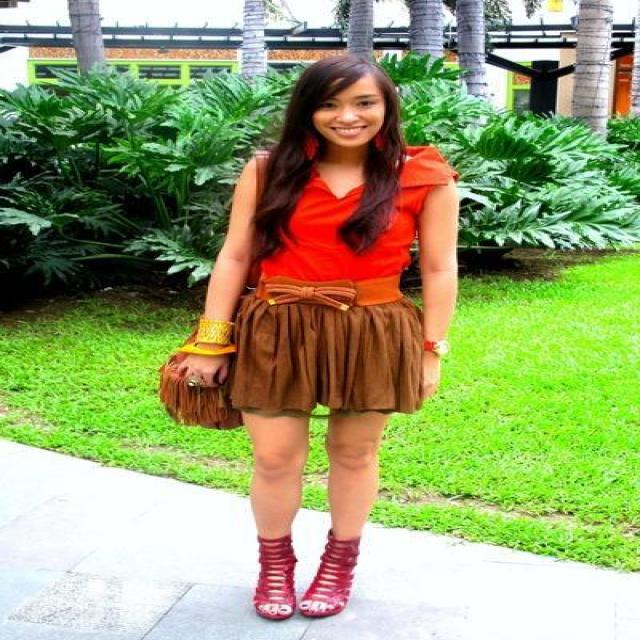bag: (157, 353, 243, 429)
shirt: (261, 145, 446, 284)
shoe: (250, 529, 358, 623)
skirt: (214, 294, 438, 422)
